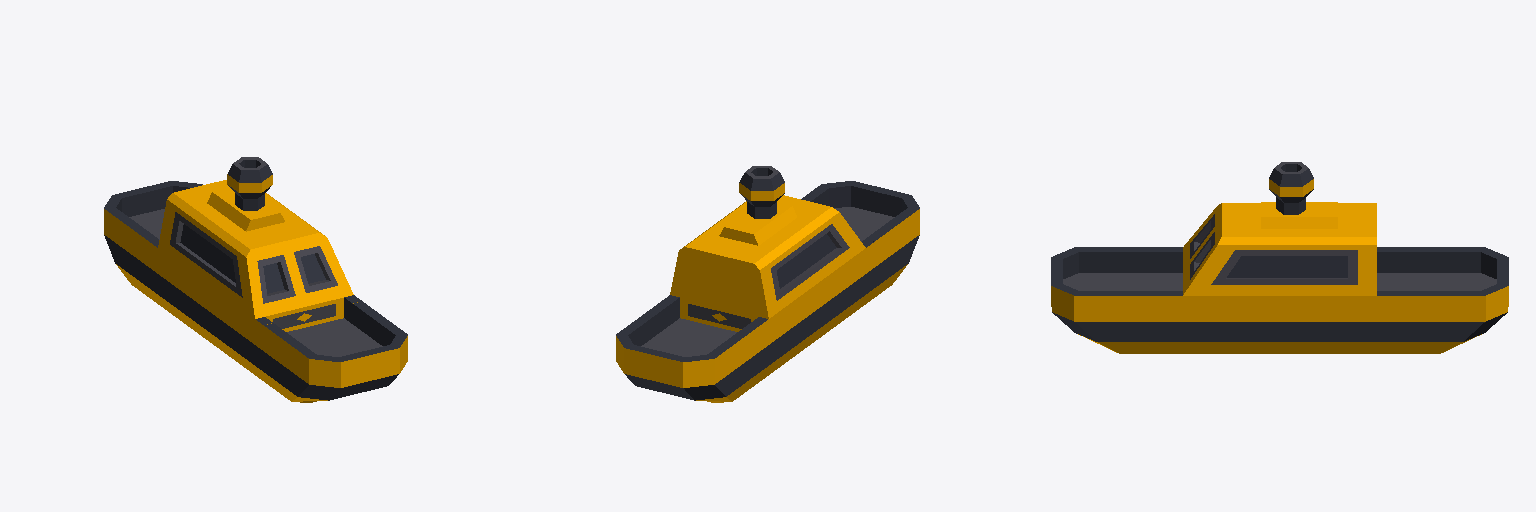
File: boat2.obj
3 renders of one model, left to right at view 1: azimuth 30°, elevation 25°; view 2: azimuth 150°, elevation 25°; view 3: azimuth 270°, elevation 25°, orthographic.
Parts seen in each view (by area): view 1: diesel_cabin_front, rail_backEdge, hull_backEdge, hull, rail, chimney_large, body_decoration; view 2: diesel_cabin_front, rail_backEdge, hull_backEdge, hull, rail, chimney_large, body_decoration; view 3: diesel_cabin_front, rail_backEdge, hull_backEdge, hull, rail, chimney_large.
Part boxes in pixels (x1,y1,x2,y2): diesel_cabin_front: (158, 180, 353, 318); rail_backEdge: (104, 181, 407, 382); hull_backEdge: (104, 209, 407, 402); hull: (149, 263, 351, 383); rail: (149, 240, 361, 345); chimney_large: (227, 157, 272, 210); body_decoration: (266, 298, 343, 331); diesel_cabin_front: (670, 195, 865, 318); rail_backEdge: (616, 181, 919, 382); hull_backEdge: (616, 207, 919, 402); hull: (672, 263, 874, 383); rail: (662, 240, 874, 345); chimney_large: (739, 166, 784, 218); body_decoration: (680, 298, 757, 331); diesel_cabin_front: (1183, 202, 1376, 295); rail_backEdge: (1051, 247, 1508, 315); hull_backEdge: (1052, 273, 1507, 353); hull: (1166, 273, 1393, 353); rail: (1166, 247, 1393, 315); chimney_large: (1269, 162, 1313, 214).
Size of the model in its own units: 1 by 1.7 by 4.